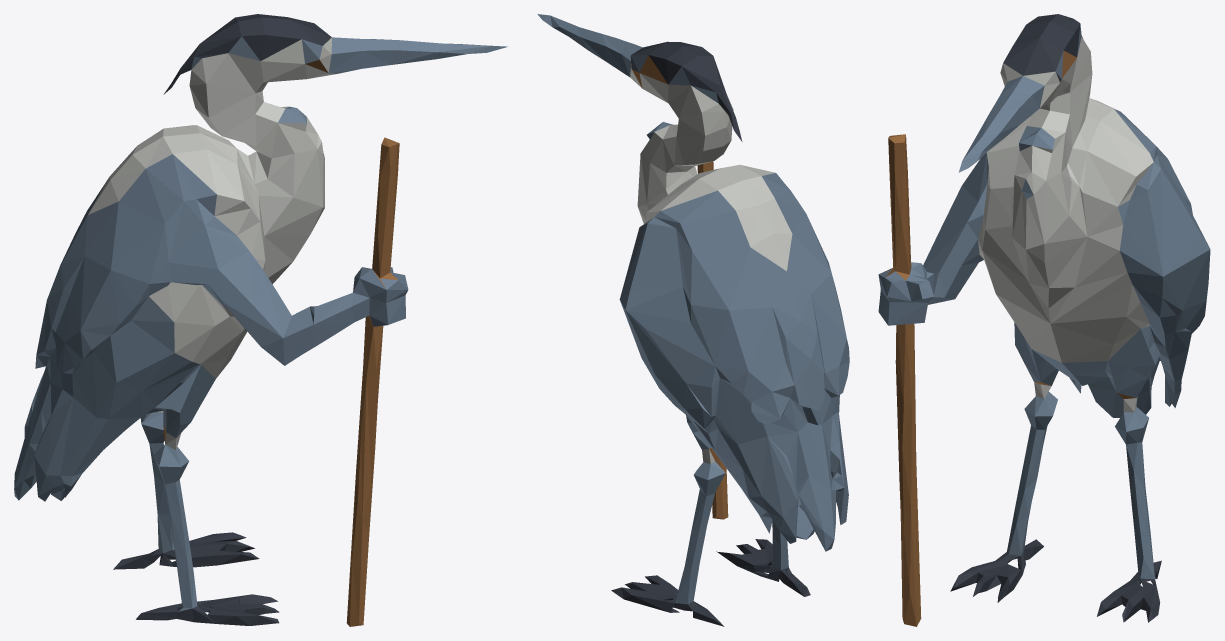
3 renders of one model, left to right at view 1: azimuth 30°, elevation 25°; view 2: azimuth 150°, elevation 25°; view 3: azimuth 270°, elevation 25°, orthographic. The views are drawn at different scales.
Size of the model in its own units: 0.7542 by 1 by 0.5106.
